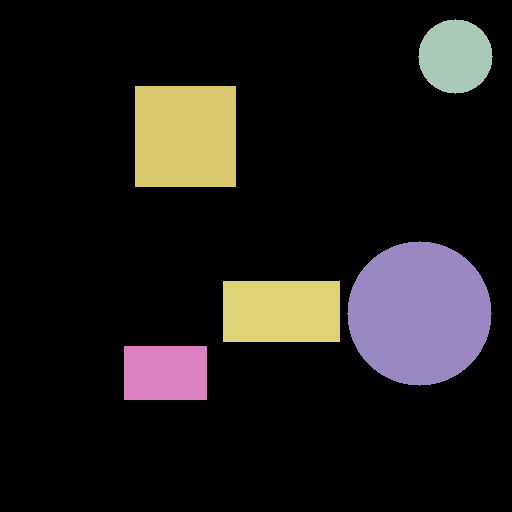circle: (347, 241, 491, 385), (418, 19, 492, 93)
rectangle: (223, 281, 339, 341), (124, 346, 206, 399)
square: (135, 86, 235, 186)
